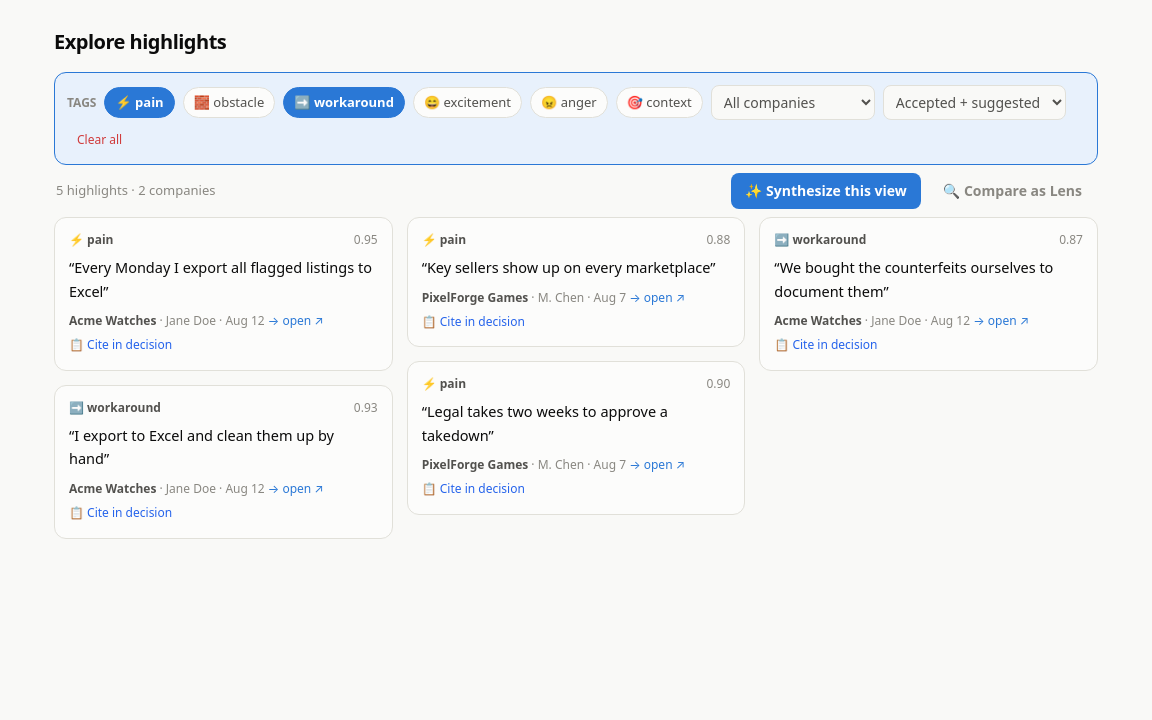
Scenario: UX #2: Explore synthesis progress panel › shows progress panel with counts and Cancel during synthesis
Click the button "✨ Synthesize this view": (826, 191) [731,173,921,209]
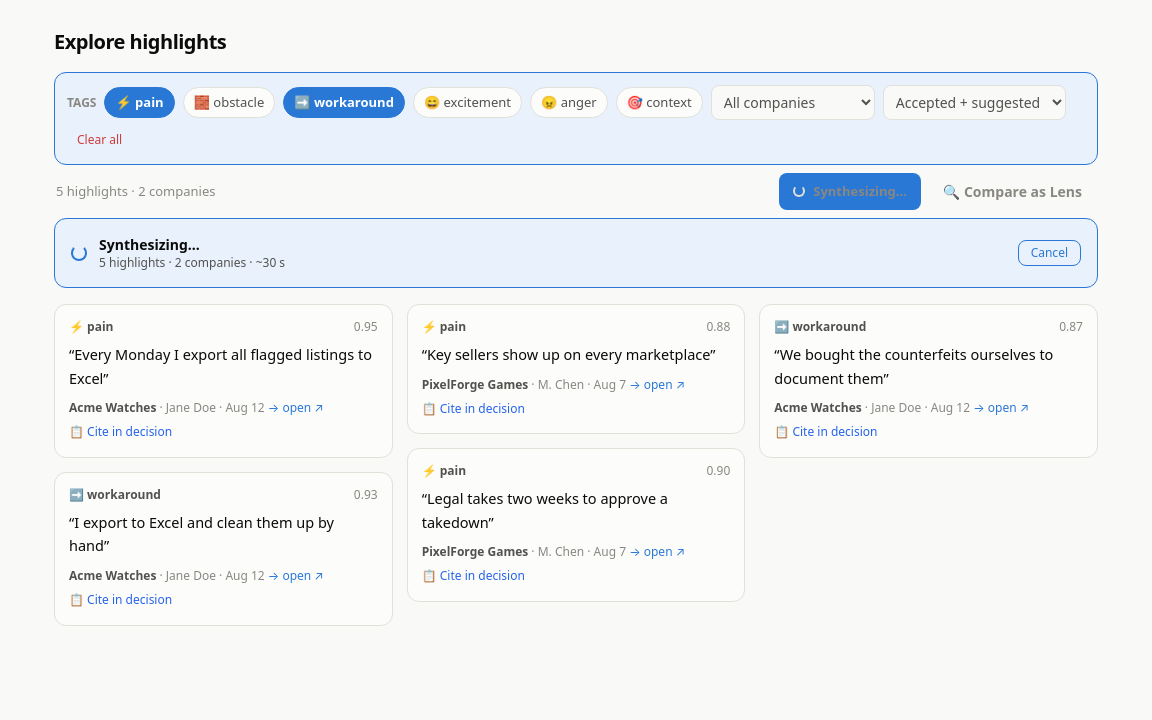
Now the button "Cancel" is shown, box [1018,240,1081,266]
Now the message named "synthesis in progress" is shown, box [54,218,1098,288]
Now the text "5 highlights · 2 companies · ~30 s" is shown, box [99,254,285,271]
